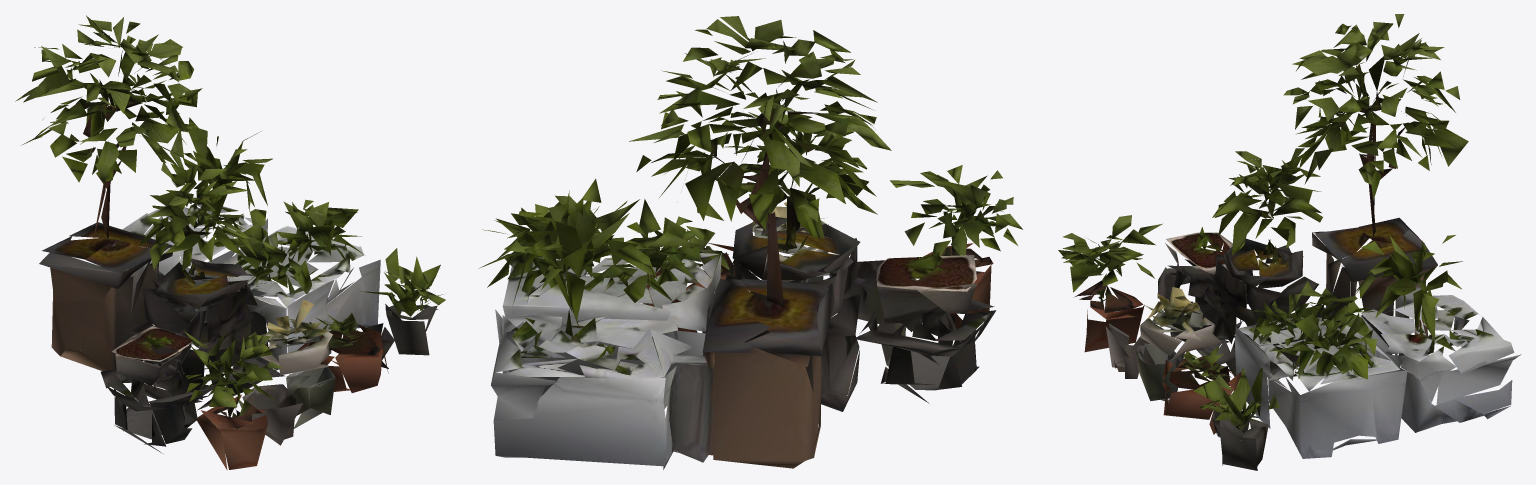
Rendered from potted_plants.glb.
3 renders of one model, left to right at view 1: azimuth 30°, elevation 25°; view 2: azimuth 150°, elevation 25°; view 3: azimuth 270°, elevation 25°, orthographic. The views are drawn at different scales.
Parts seen in each view (by area): view 1: tripo_node_03072b66-43cc-4176-b9ff-3753417e2dba; view 2: tripo_node_03072b66-43cc-4176-b9ff-3753417e2dba; view 3: tripo_node_03072b66-43cc-4176-b9ff-3753417e2dba.
Part boxes in pixels (x1,y1,x2,y2): tripo_node_03072b66-43cc-4176-b9ff-3753417e2dba: (15,15,445,470); tripo_node_03072b66-43cc-4176-b9ff-3753417e2dba: (478,16,1022,469); tripo_node_03072b66-43cc-4176-b9ff-3753417e2dba: (1058,14,1521,470).
Size of the model in its own units: 1.41 by 1.3 by 1.63.
1 material, 1 textured.
